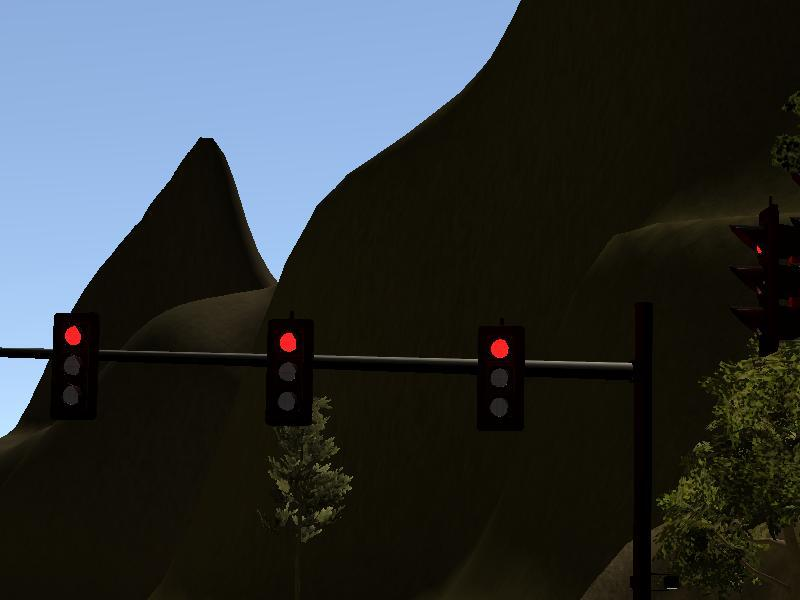Red: (482, 328, 524, 426), (270, 321, 309, 421), (53, 313, 91, 414)
